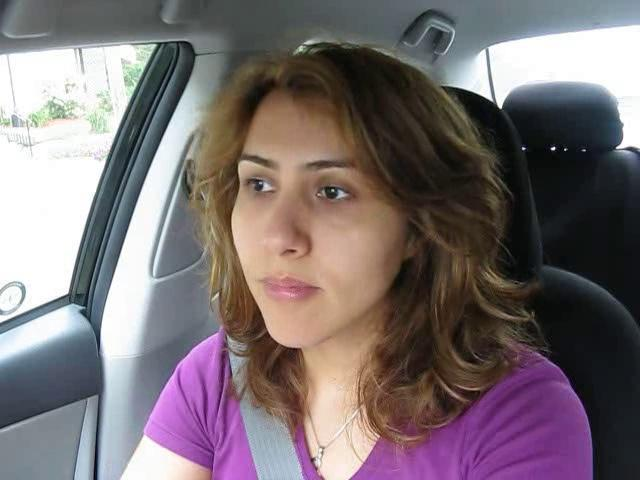no_yawn: (242, 265, 339, 314)
open_eyeL: (235, 164, 287, 205)
open_eyeR: (303, 172, 373, 213)
